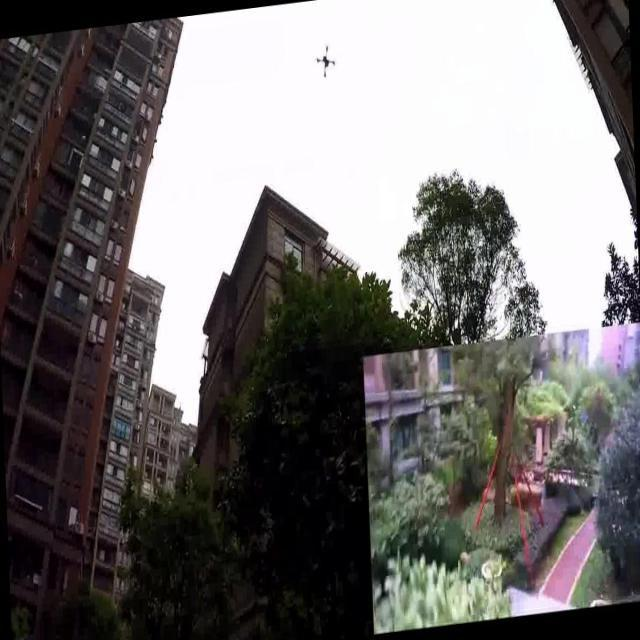drone: (313, 40, 337, 82)
